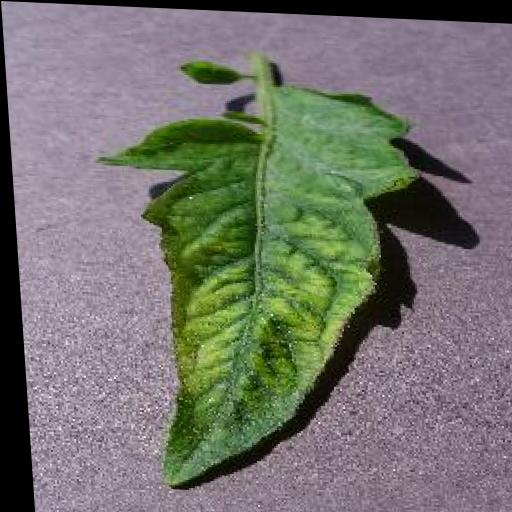Mosaic Virus: (93, 78, 433, 497)
